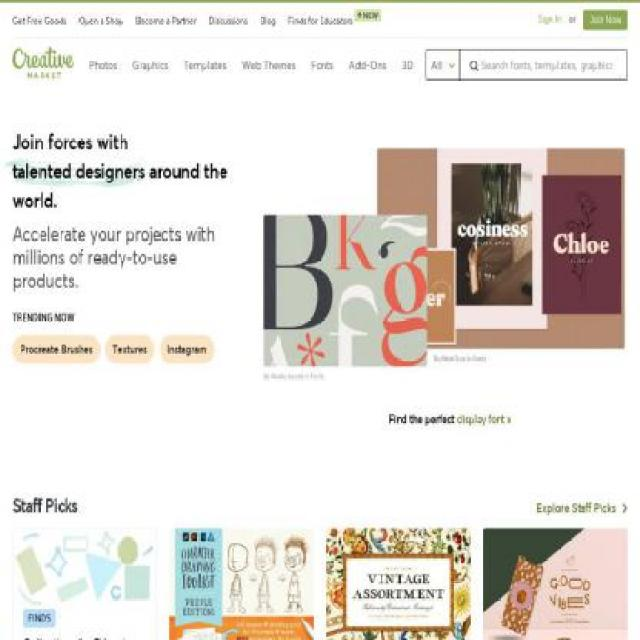button: (169, 527, 314, 639), (326, 527, 471, 639), (483, 527, 628, 639), (13, 560, 156, 626), (12, 334, 100, 363), (535, 498, 628, 518), (159, 334, 215, 363), (106, 334, 154, 363), (288, 16, 381, 27), (582, 10, 628, 30), (242, 58, 296, 72), (183, 58, 226, 72), (348, 58, 387, 72), (132, 58, 168, 72), (89, 58, 117, 72), (312, 58, 333, 72), (537, 14, 561, 26), (401, 58, 414, 72)
field: (480, 49, 628, 80)
